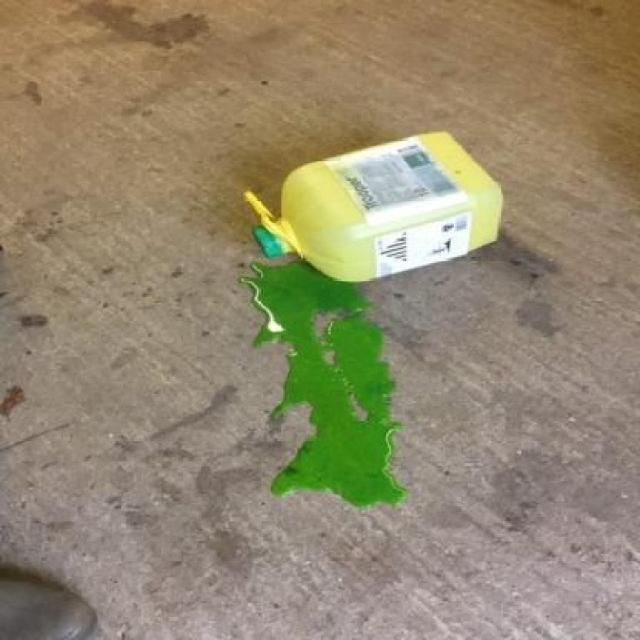spillage: (240, 255, 407, 509)
